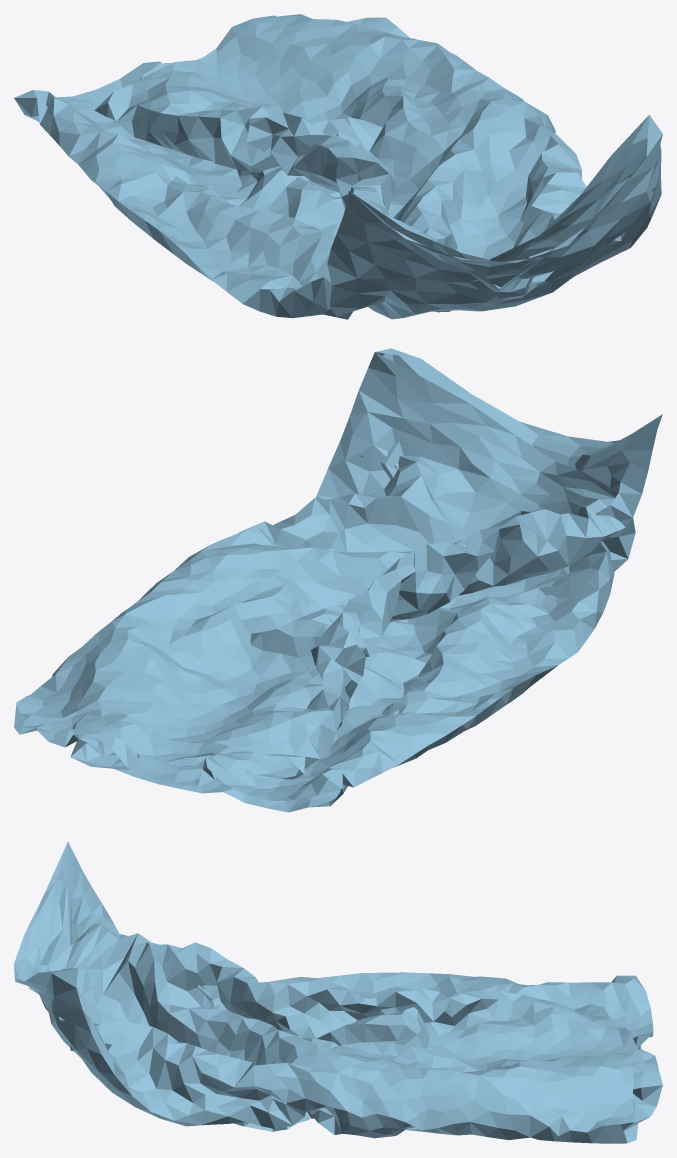
Rendered from frame_04.glb.
The picture shows the model from 3 angles, top to bottom: view 1: azimuth 30°, elevation 25°; view 2: azimuth 150°, elevation 25°; view 3: azimuth 270°, elevation 25°; orthographic projection. The views are drawn at different scales.
Visible parts, largest first — view 1: frame_04.obj; view 2: frame_04.obj; view 3: frame_04.obj.
Part boxes in pixels (left/top/right/bottom): frame_04.obj: left=14, top=14, right=662, bottom=319; frame_04.obj: left=14, top=348, right=662, bottom=812; frame_04.obj: left=14, top=841, right=662, bottom=1143.
Bounding box in the file's own units: 0.9698 × 0.4765 × 1.68.
